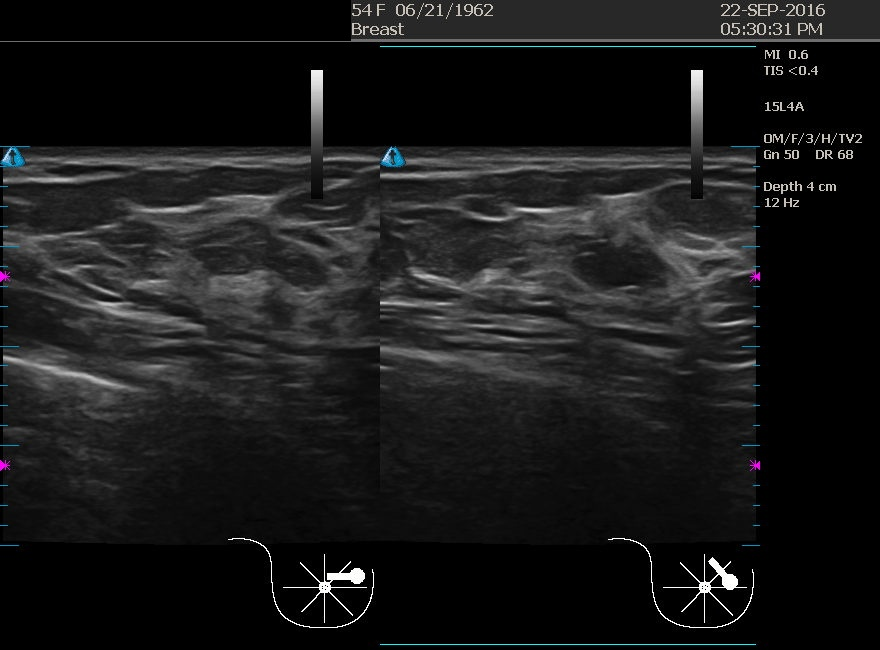Benign: (150, 205, 350, 405), (505, 207, 705, 407)
